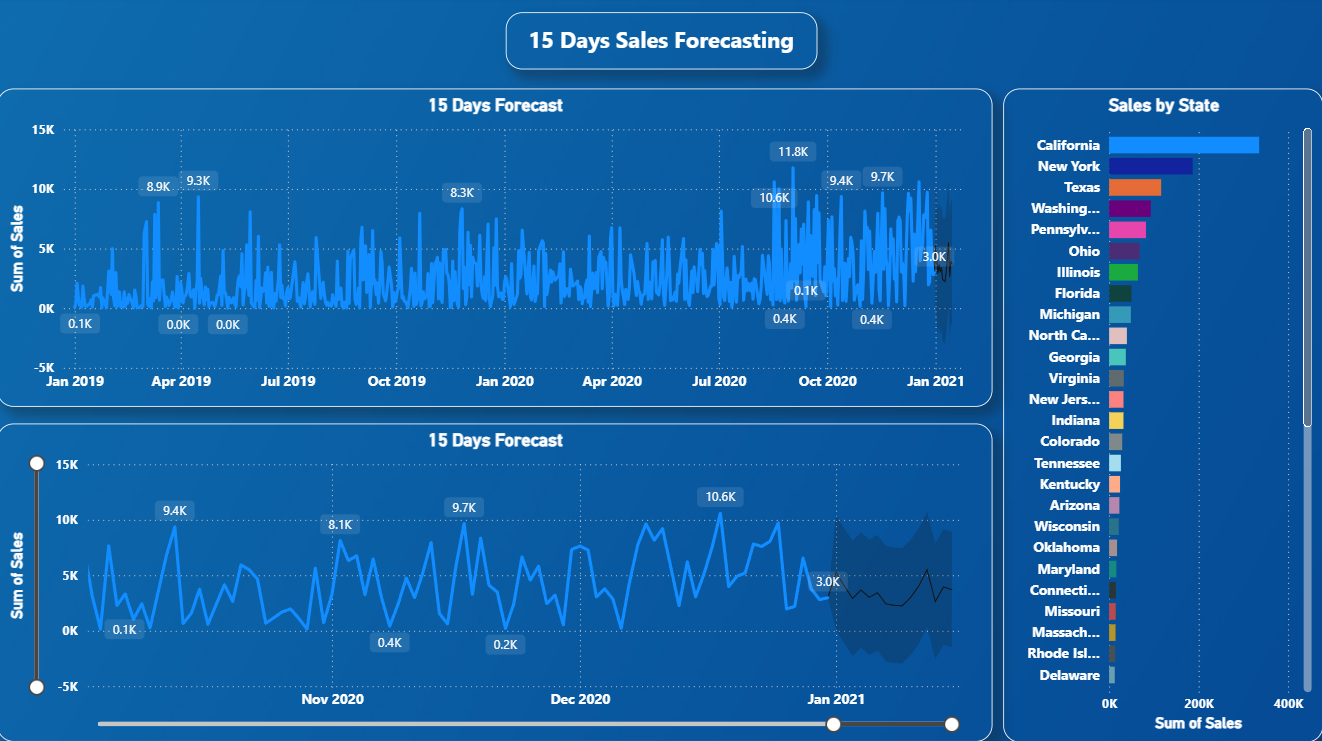

Layout of this report page (visuals, bound fields, positions):
{"tool":"powerbi","page":{"name":"Forecasting","canvas":[1280,720],"ordinal":1},"visuals":[{"type":"lineChart","title":"15 Days Forecast","fields":{"Y":["Sum(Sales_Dataset_proj2.Sales)"],"Category":["Sales_Dataset_proj2.Order Date Clean"]},"box":[0,89.2,960.6,307.4],"z":0},{"type":"lineChart","title":"15 Days Forecast","fields":{"Y":["Sum(Sales_Dataset_proj2.Sales)"],"Category":["Sales_Dataset_proj2.Order Date Clean"]},"box":[0,413,960.6,307.4],"z":1},{"type":"barChart","title":"Sales by State","fields":{"Category":["Sales_Dataset_proj2.State"],"Y":["Sum(Sales_Dataset_proj2.Sales)"],"Series":["Sales_Dataset_proj2.State"]},"box":[971.5,89.2,308.7,631.2],"z":2},{"type":"textbox","box":[490.5,16.2,300.5,55.3],"z":3}]}

Visuals, with their boxes in screenshot pixels (x1, y1, x2, y2), scaled from the page's 1280x720 canvas onto the 1322x741 screenshot:
"15 Days Forecast" lineChart: box=[0, 92, 992, 408]
"15 Days Forecast" lineChart: box=[0, 425, 992, 740]
"Sales by State" barChart: box=[1003, 92, 1321, 740]
textbox: box=[507, 17, 817, 74]
